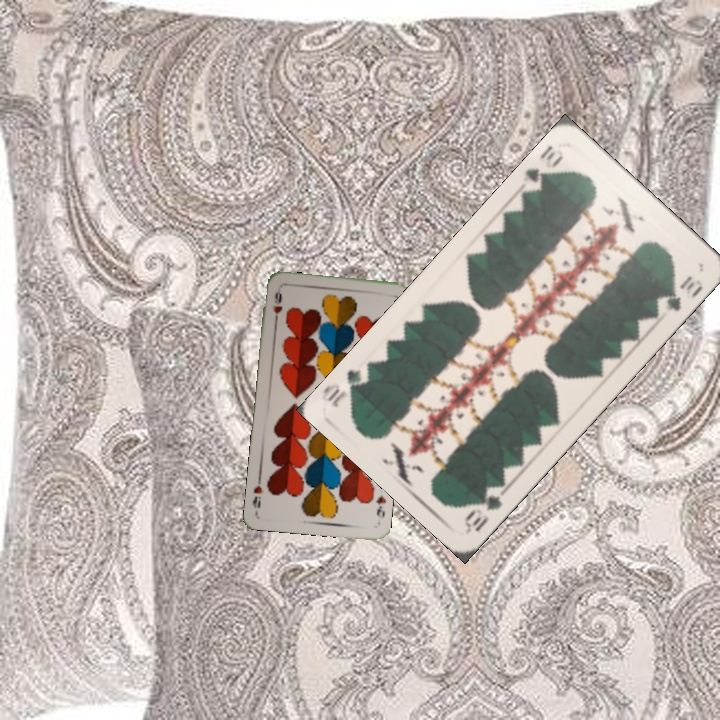G10: (460, 481, 509, 535), (521, 141, 566, 195)
H9: (269, 285, 285, 326), (372, 491, 388, 524)
